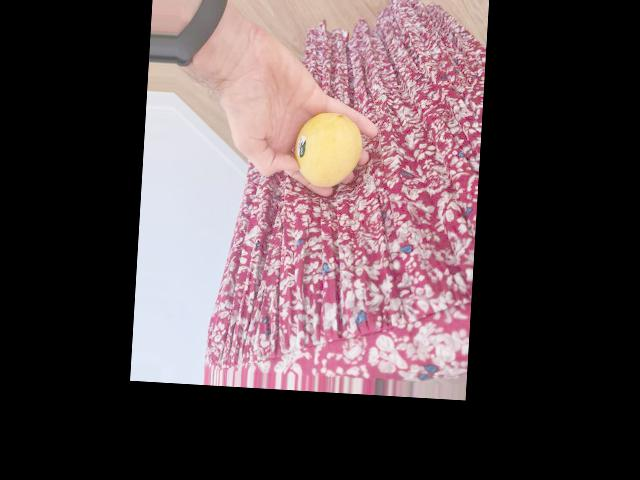lemon: (291, 112, 360, 188)
